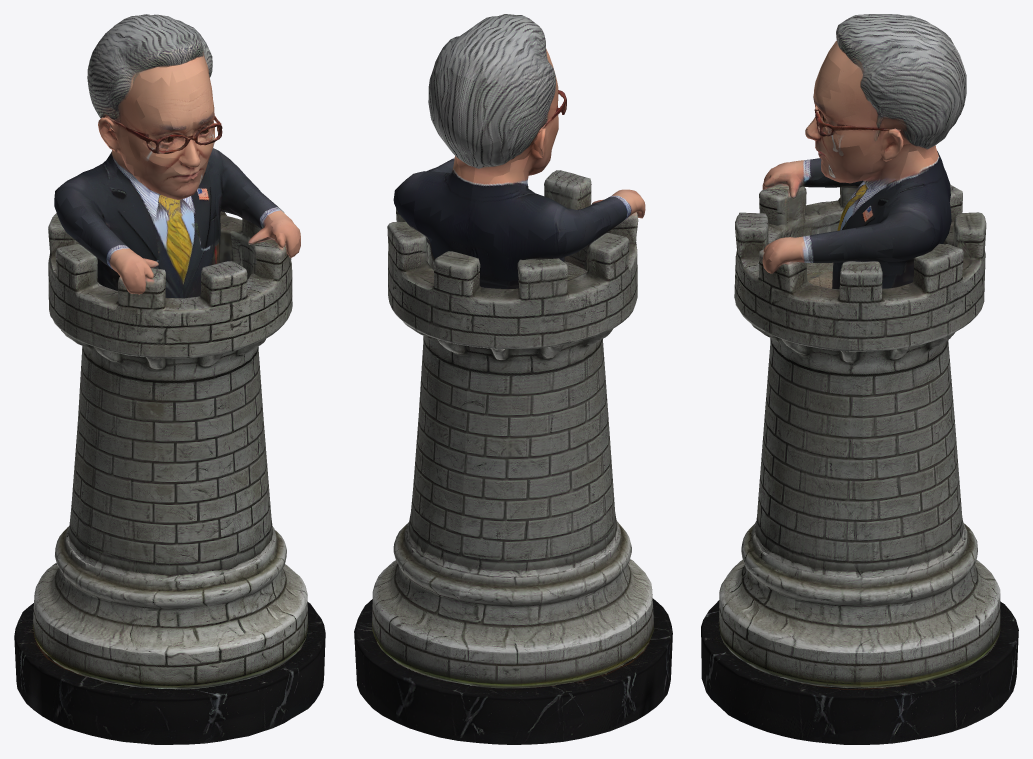
Rendered from left-rook-ks.glb.
The picture shows the model from 3 angles, left to right: view 1: azimuth 30°, elevation 25°; view 2: azimuth 150°, elevation 25°; view 3: azimuth 270°, elevation 25°; orthographic projection. The views are drawn at different scales.
Bounding box in the file's own units: 0.4385 × 1 × 0.4385.
1 material, 1 textured.
